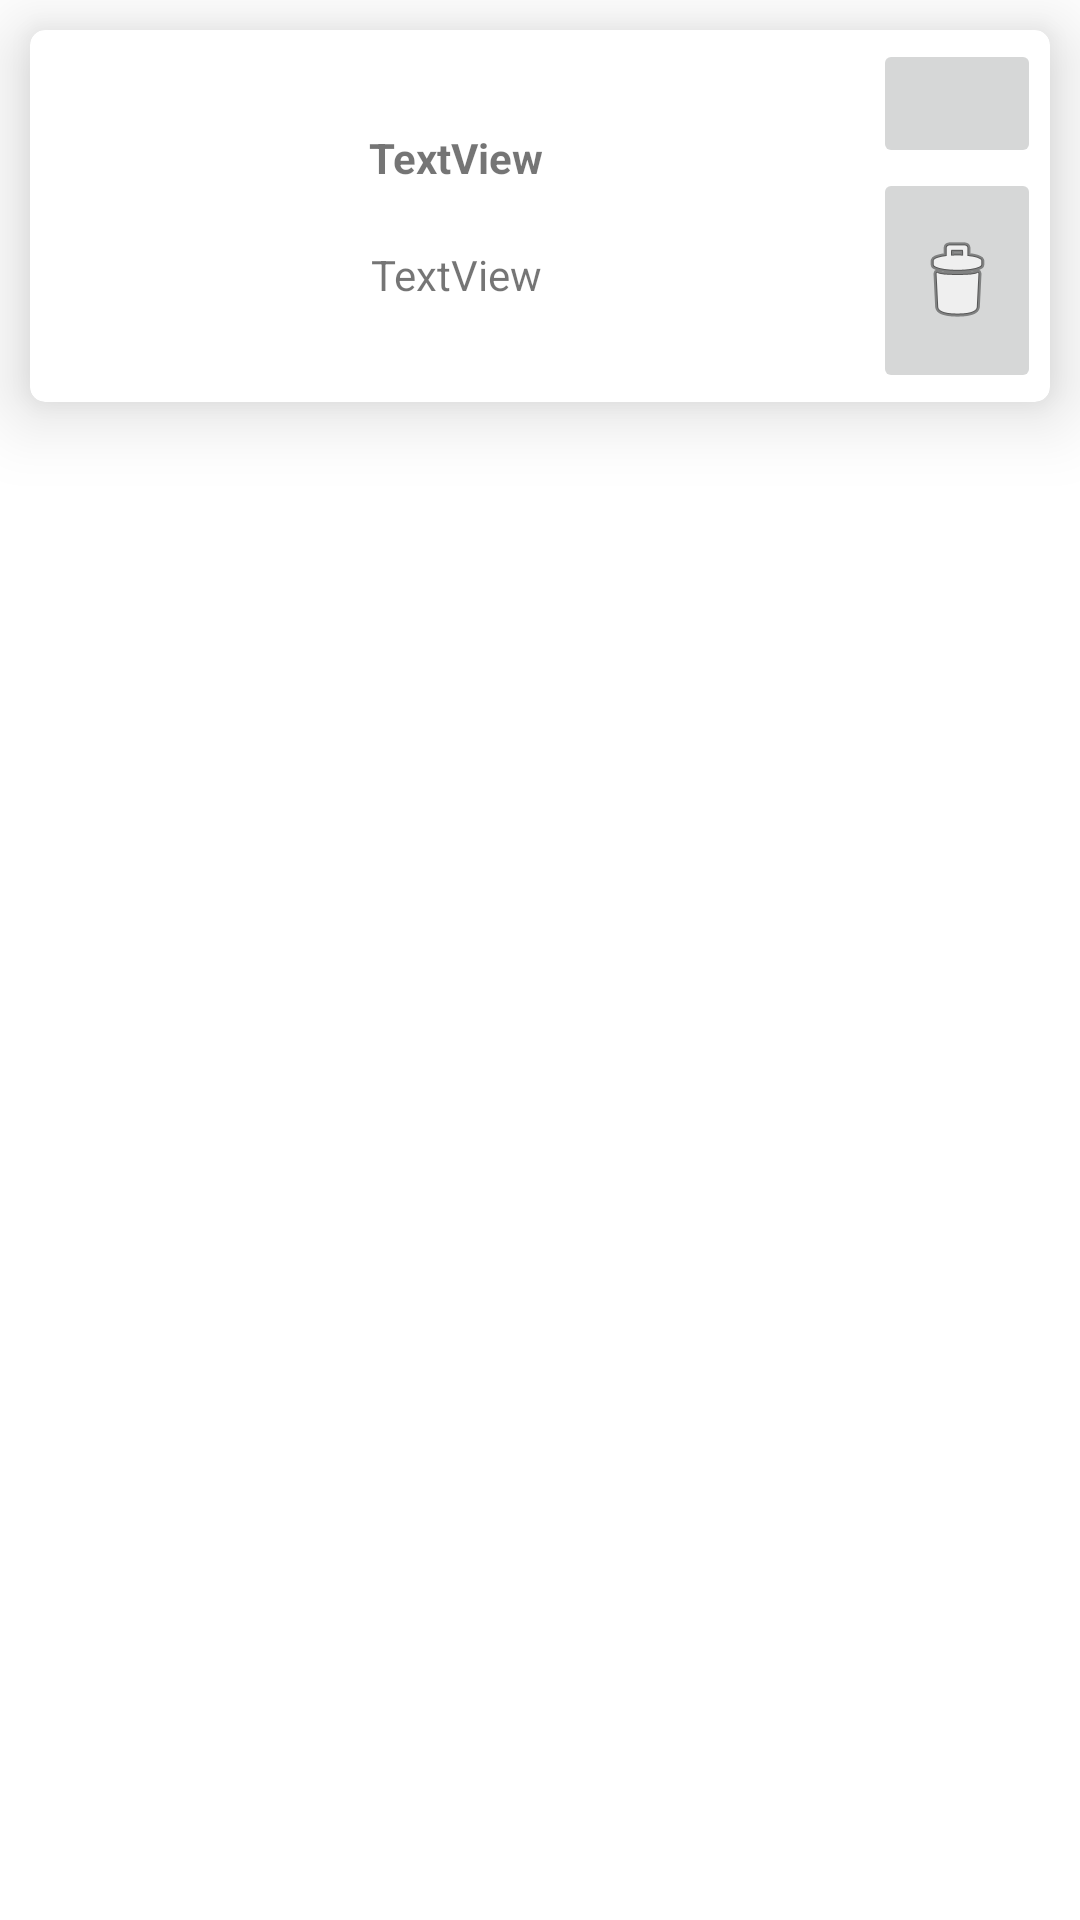

Screen size 1080px x 1920px. Icon name, then its box in pixels as [x1,y1,x2,y2]:
delete: [885,186,1029,375]
